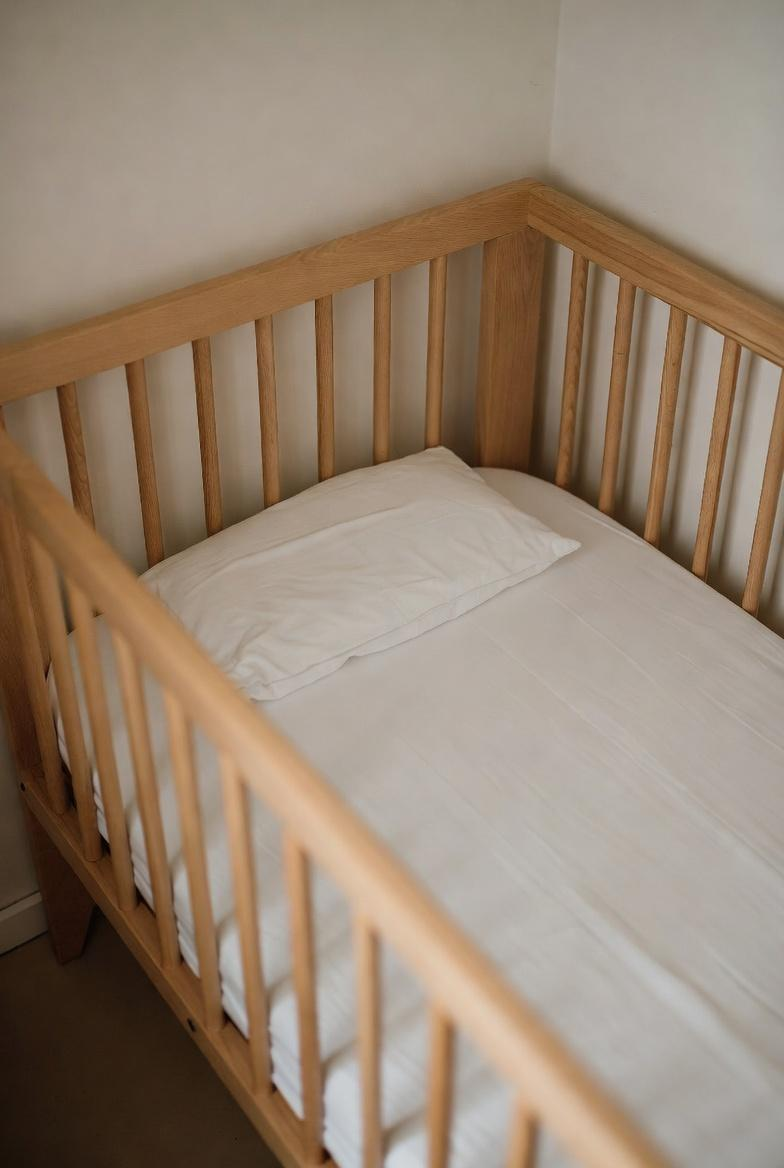crib: (0, 173, 784, 1168)
